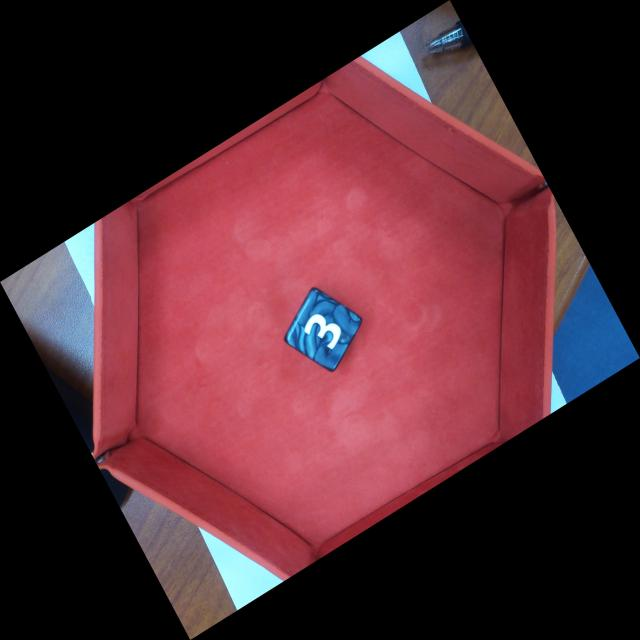dice: (282, 286, 366, 374)
